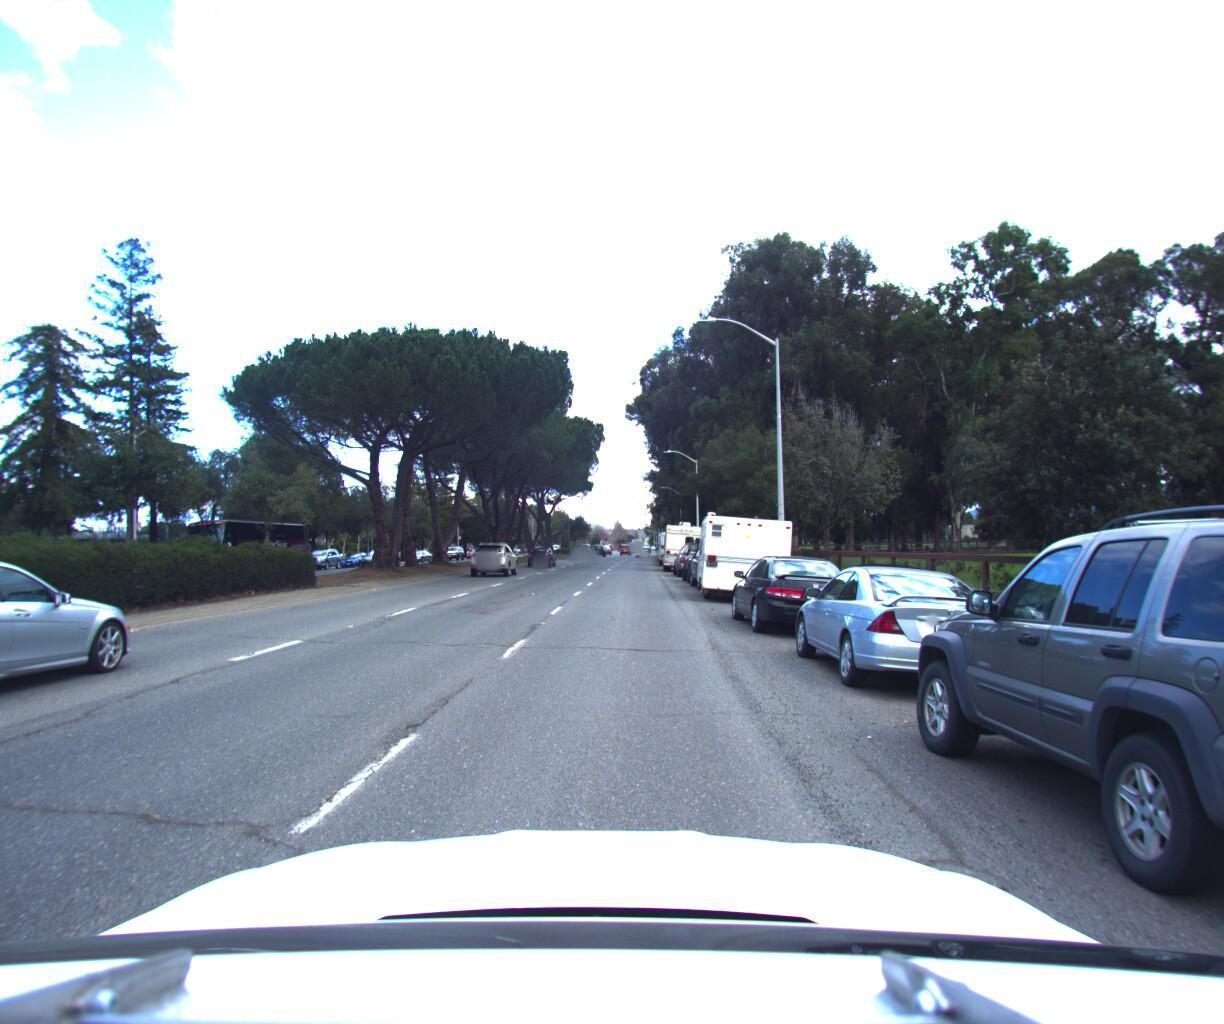bus: (172, 508, 317, 573)
car: (897, 478, 1224, 1024), (786, 553, 1031, 708), (0, 541, 156, 742), (724, 545, 864, 638), (685, 532, 755, 587), (678, 528, 733, 578), (472, 533, 523, 570), (670, 527, 713, 571), (299, 539, 345, 562), (526, 539, 558, 563), (338, 542, 375, 560)
other_vehicle: (694, 500, 802, 601), (660, 508, 708, 564), (656, 517, 695, 558)
